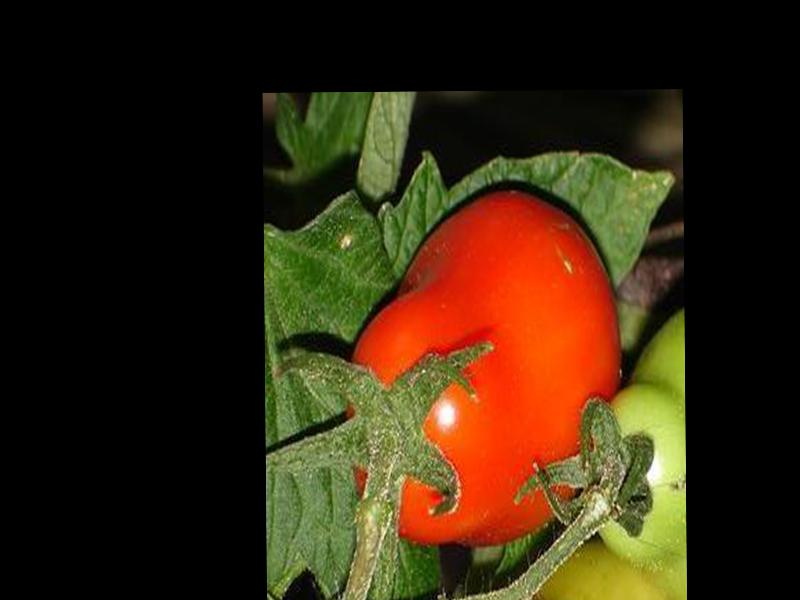Tomato: (345, 187, 621, 544)
